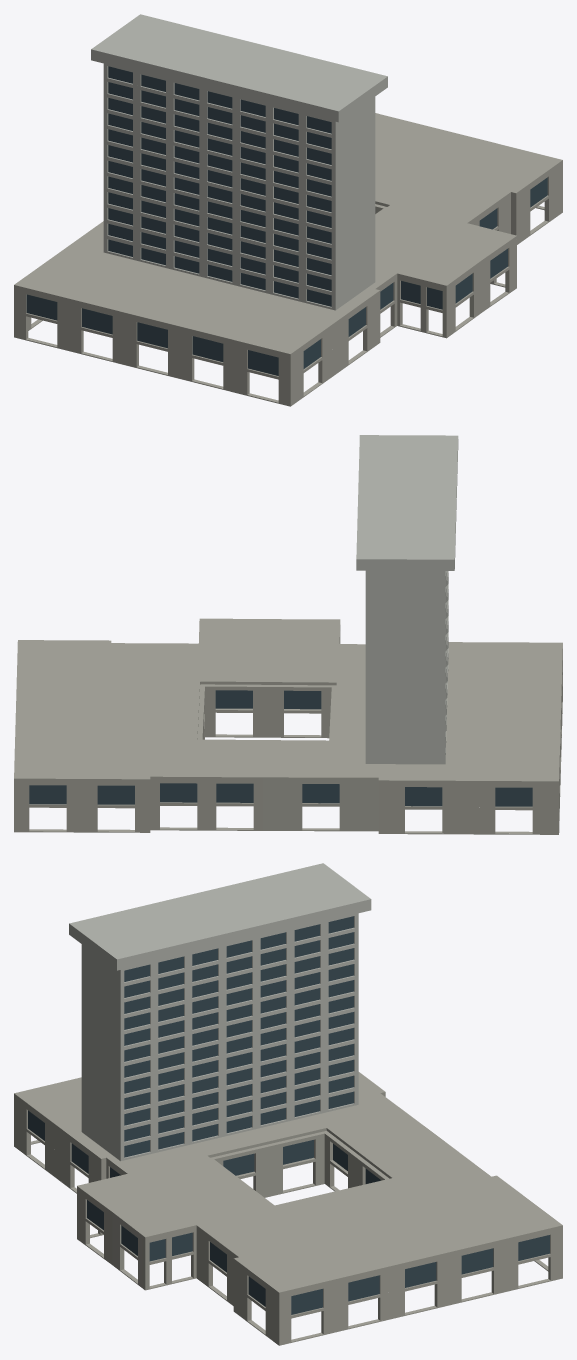
The model's file is hotel-de-ville-grenoble-far.glb.
The picture shows the model from 3 angles, top to bottom: view 1: azimuth 30°, elevation 25°; view 2: azimuth 150°, elevation 25°; view 3: azimuth 270°, elevation 25°; orthographic projection. The views are drawn at different scales.
Visible parts, largest first — view 1: hotel-de-ville-grenoble-0-stone, hotel-de-ville-grenoble-0-trim, hotel-de-ville-grenoble-0-glass; view 2: hotel-de-ville-grenoble-0-stone, hotel-de-ville-grenoble-0-trim, hotel-de-ville-grenoble-0-glass; view 3: hotel-de-ville-grenoble-0-stone, hotel-de-ville-grenoble-0-trim, hotel-de-ville-grenoble-0-glass.
Boxes of the visible parts, <box> form: hotel-de-ville-grenoble-0-stone: <box>14,113,562,406</box>; hotel-de-ville-grenoble-0-trim: <box>91,14,387,310</box>; hotel-de-ville-grenoble-0-glass: <box>26,66,547,375</box>; hotel-de-ville-grenoble-0-stone: <box>14,618,562,834</box>; hotel-de-ville-grenoble-0-trim: <box>356,435,458,764</box>; hotel-de-ville-grenoble-0-glass: <box>29,690,532,806</box>; hotel-de-ville-grenoble-0-stone: <box>14,1072,562,1345</box>; hotel-de-ville-grenoble-0-trim: <box>69,863,371,1161</box>; hotel-de-ville-grenoble-0-glass: <box>28,916,549,1314</box>.
Bounding box in the file's own units: 102 × 46.5 × 88.89.
